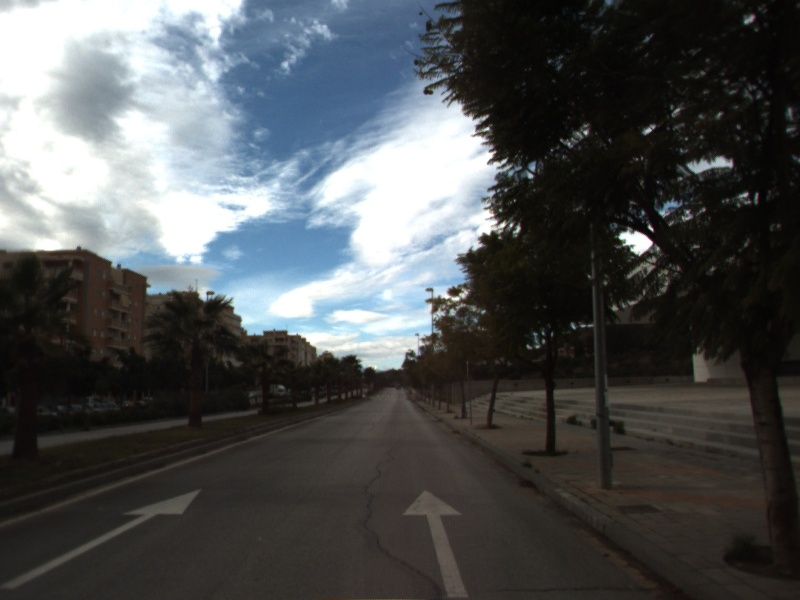STRAIGHT: (1, 486, 205, 592), (400, 488, 472, 599)
